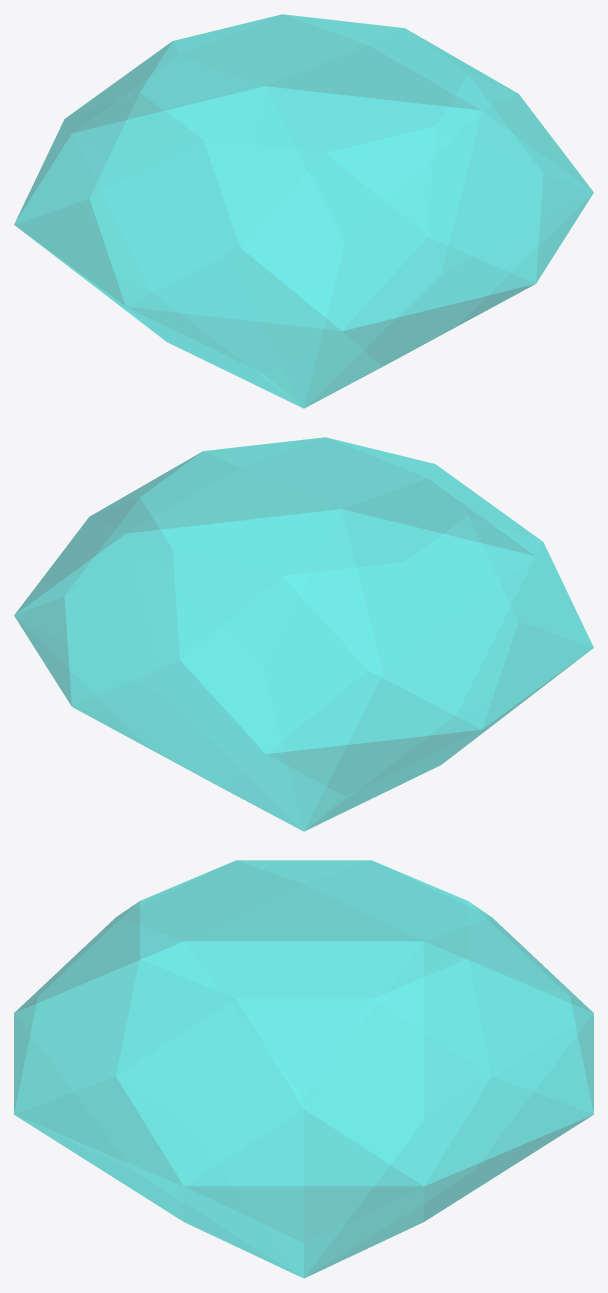
File: diamond.fbx
The picture shows the model from 3 angles, top to bottom: view 1: azimuth 30°, elevation 25°; view 2: azimuth 150°, elevation 25°; view 3: azimuth 270°, elevation 25°; orthographic projection. The views are drawn at different scales.
Visible parts, largest first — view 1: diamond; view 2: diamond; view 3: diamond.
Part boxes in pixels (left/top/right/bottom): diamond: left=14, top=14, right=593, bottom=408; diamond: left=14, top=437, right=593, bottom=831; diamond: left=14, top=860, right=593, bottom=1278.
Bounding box in the file's own units: 196 × 130 × 196.
